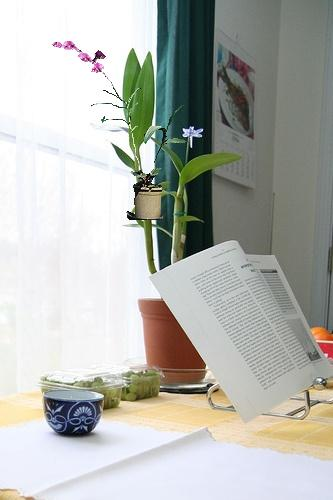tampered: (53, 42, 189, 220)
